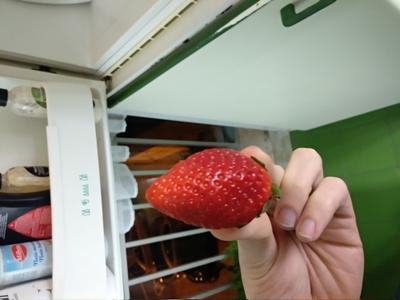strawberry: (0, 0, 400, 300)
